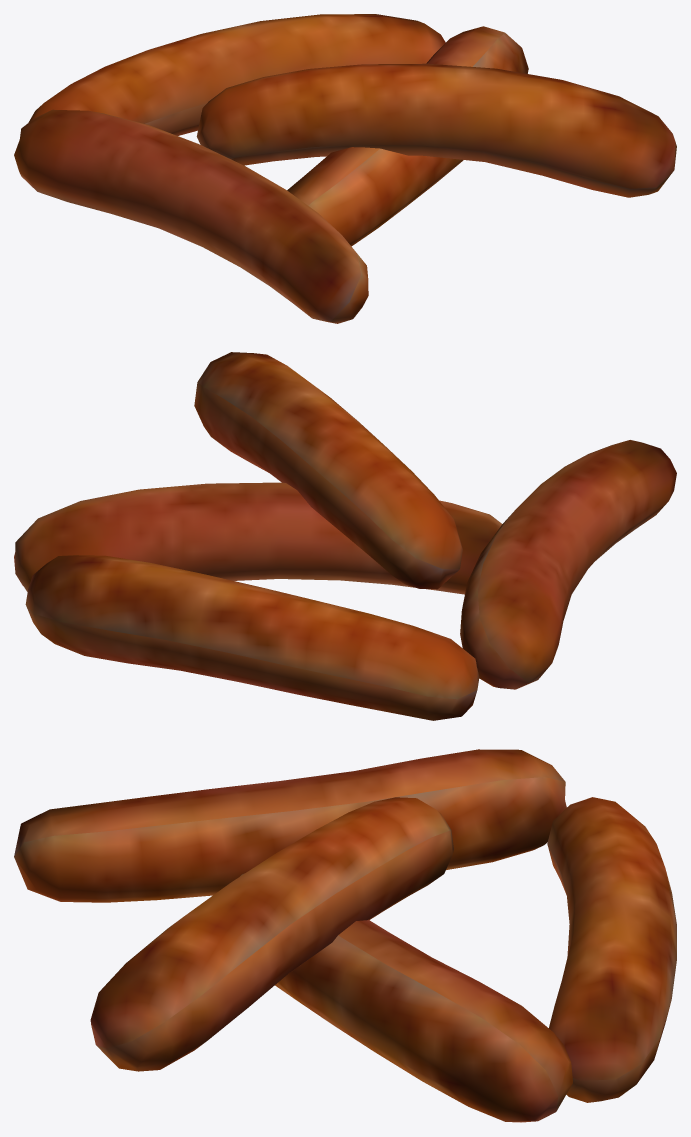
File: SM_SausageSet_a504ee.glb
3 renders of one model, top to bottom at view 1: azimuth 30°, elevation 25°; view 2: azimuth 150°, elevation 25°; view 3: azimuth 270°, elevation 25°, orthographic. The views are drawn at different scales.
Bounding box in the file's own units: 0.3661 × 0.1088 × 0.3571.
Materials: 1 (1 with a texture image).
